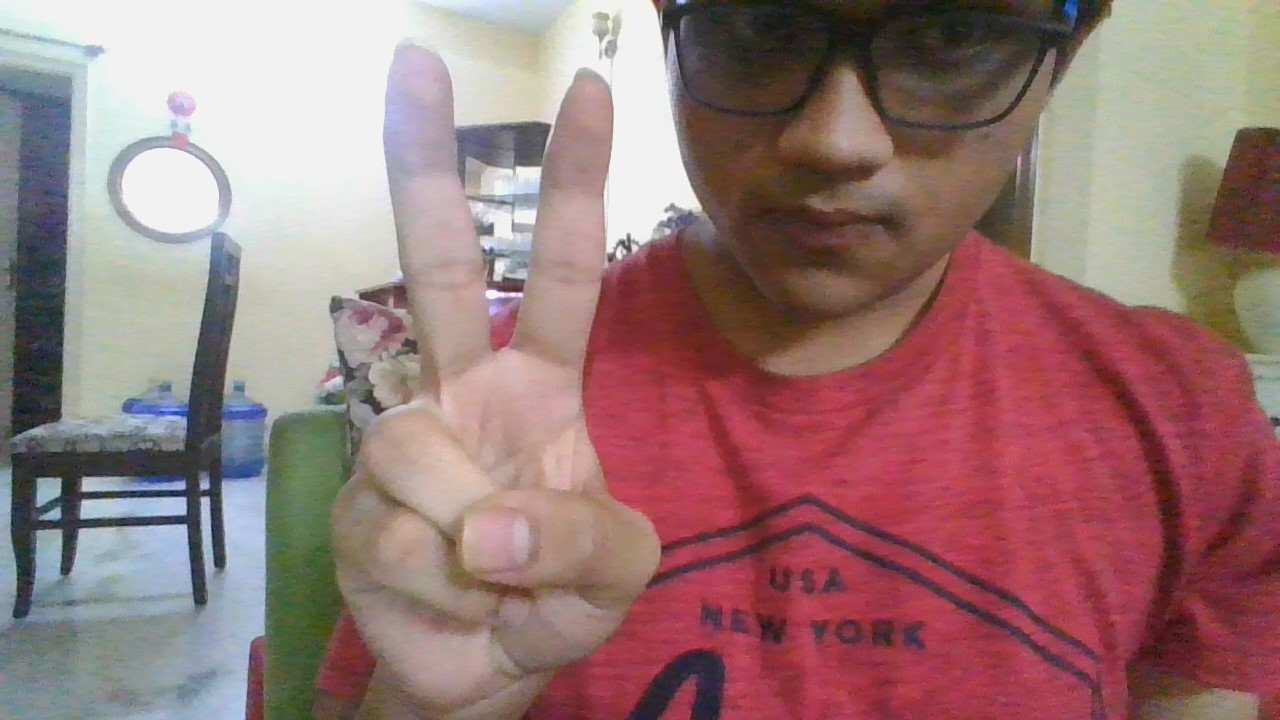v: (325, 21, 669, 702)
